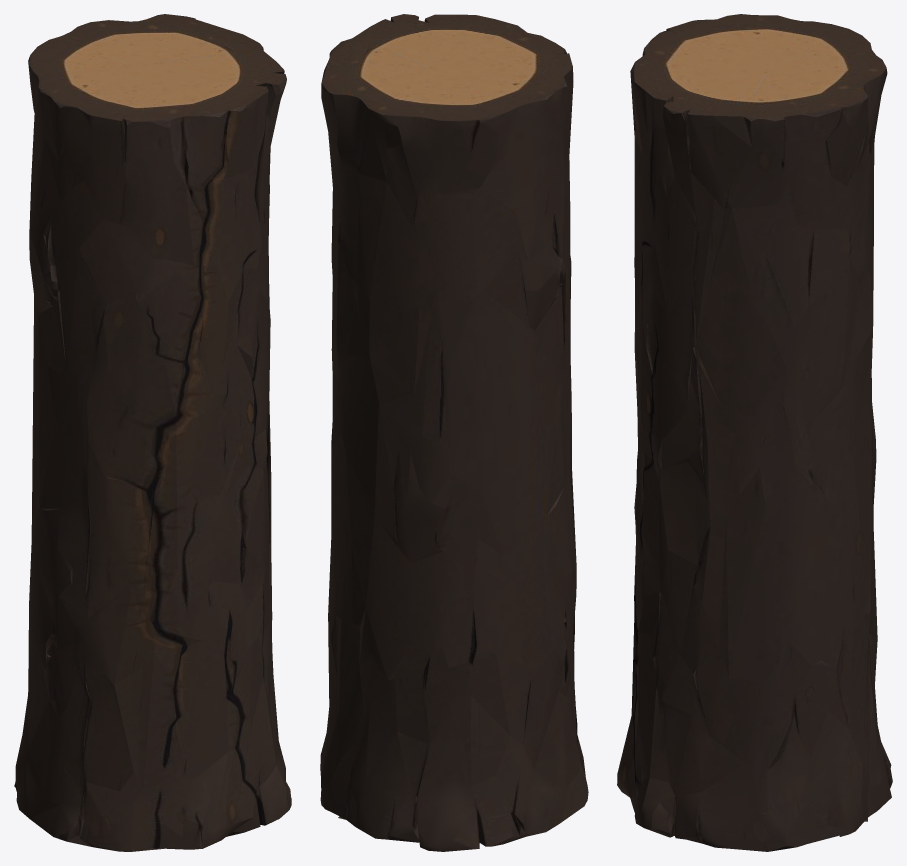
The model's file is treeTrunk.glb.
3 views of the same model, side by side, from view 1: azimuth 30°, elevation 25°; view 2: azimuth 150°, elevation 25°; view 3: azimuth 270°, elevation 25° (orthographic).
Bounding box in the file's own units: 0.6435 × 1.9 × 0.6522.
1 material, 1 textured.
